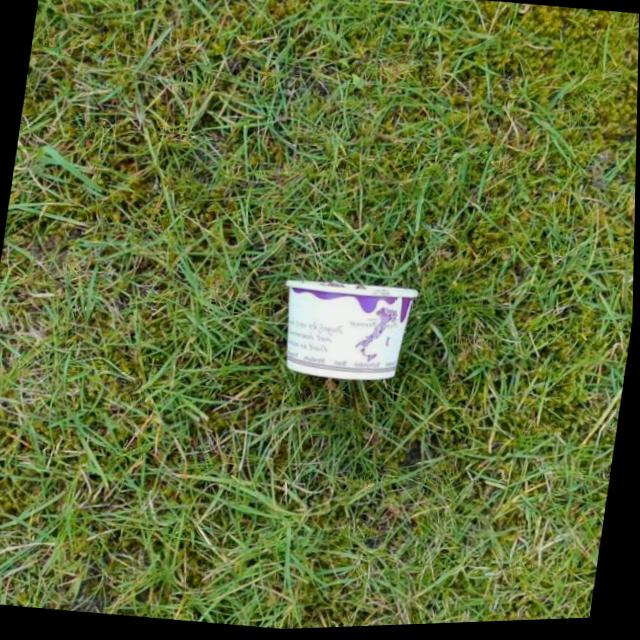Paper: (271, 275, 422, 394)
